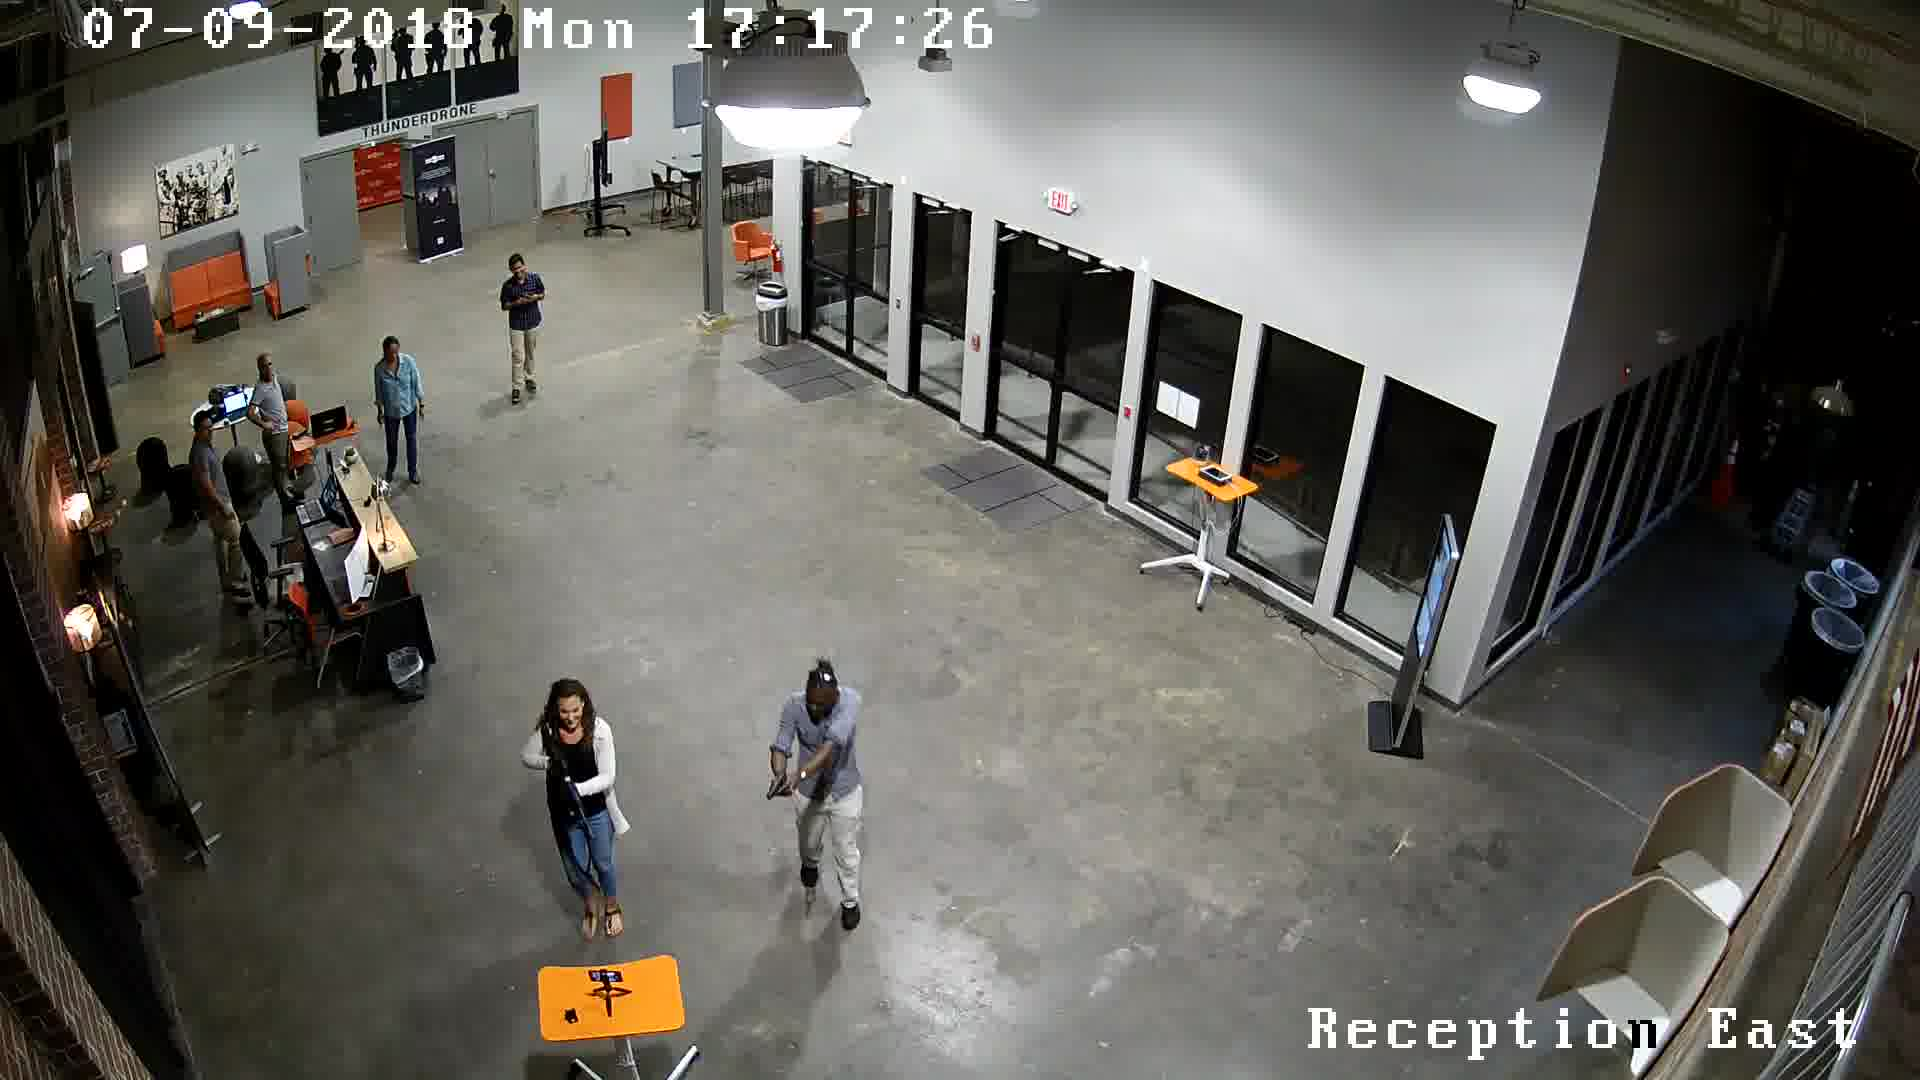pistol: (760, 771, 793, 815), (506, 282, 541, 320)
